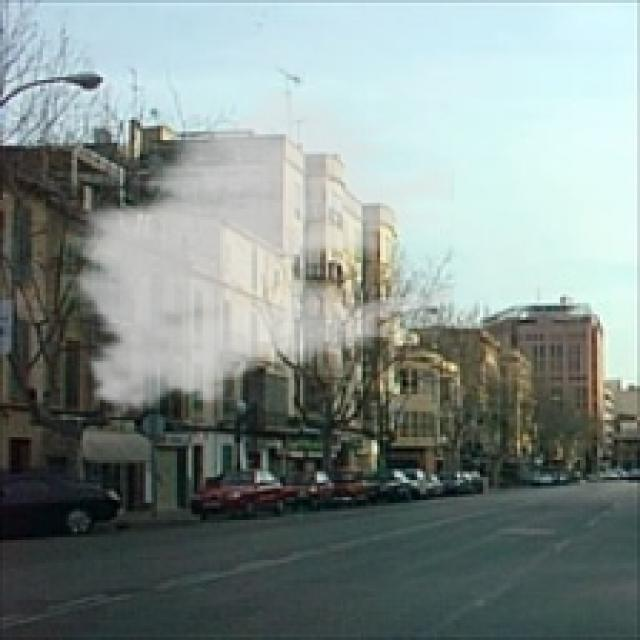Smoke: (57, 77, 454, 429)
